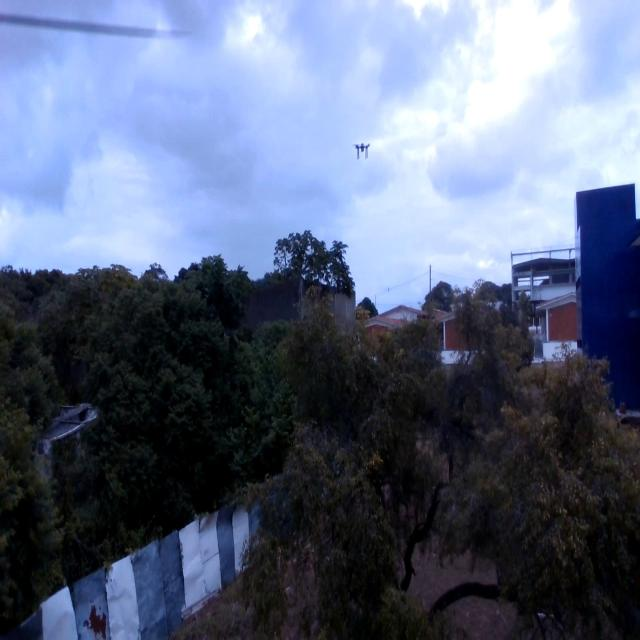-uav-: (349, 132, 373, 167)
